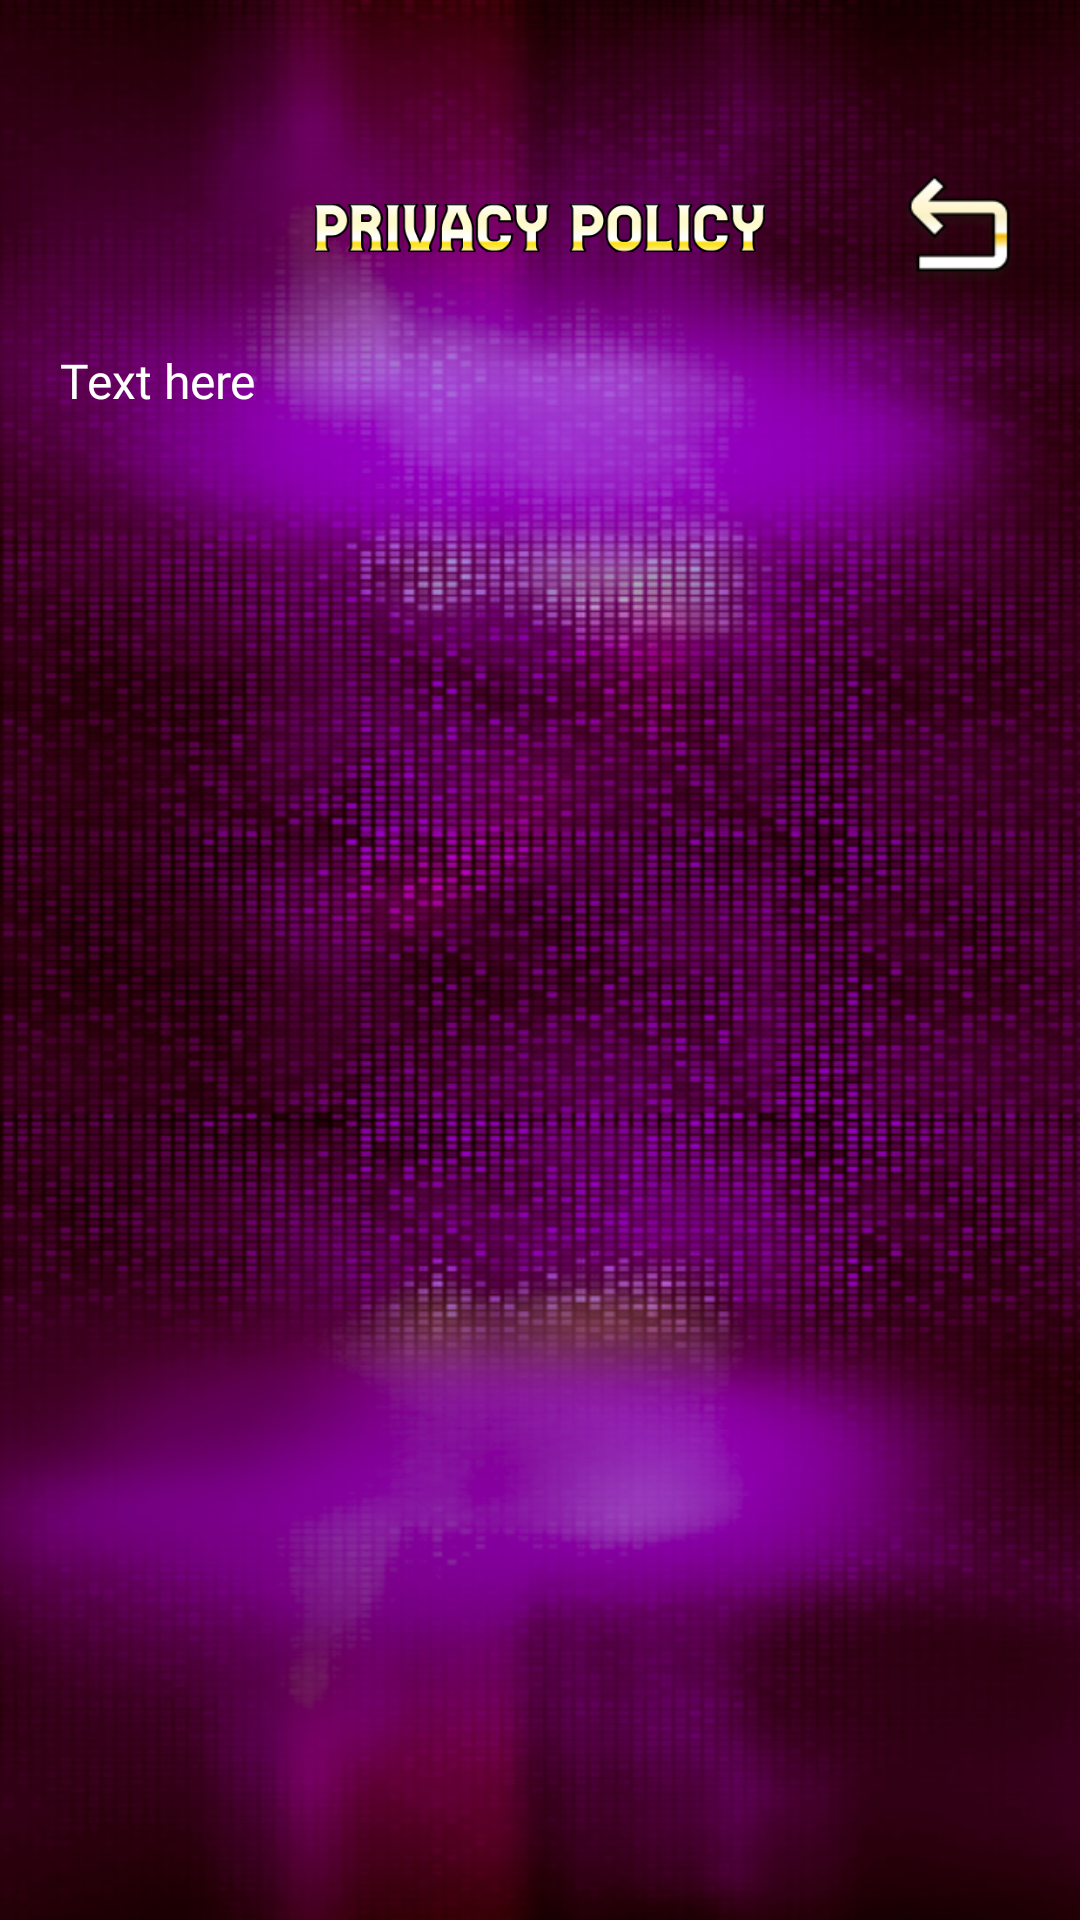

Screen size 1080w x 1920h. Icon name, then its center in pixels as (x,y):
back: (923,228)
